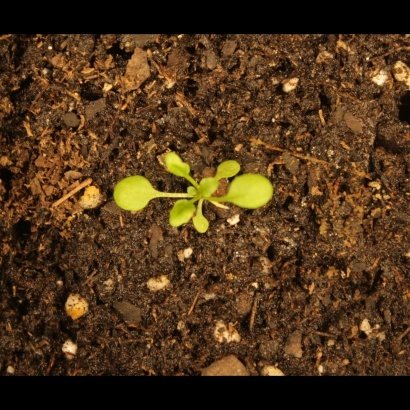leaf: (108, 174, 160, 216), (228, 174, 277, 209), (161, 151, 195, 181), (207, 152, 242, 178), (169, 198, 197, 230), (189, 208, 215, 242), (191, 175, 220, 200)
